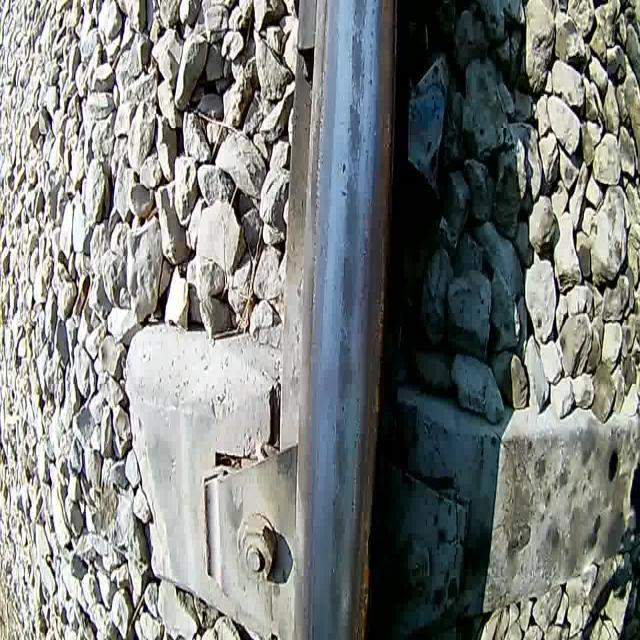Cracks: (350, 69, 368, 114), (358, 1, 368, 66), (339, 247, 348, 319), (354, 111, 362, 177), (349, 3, 358, 55), (451, 315, 452, 316)
Squats: (330, 321, 357, 405), (338, 175, 367, 248), (328, 410, 352, 494), (339, 103, 365, 177), (338, 246, 362, 324), (325, 491, 350, 564), (324, 566, 346, 640), (349, 32, 367, 102), (351, 0, 369, 33)
